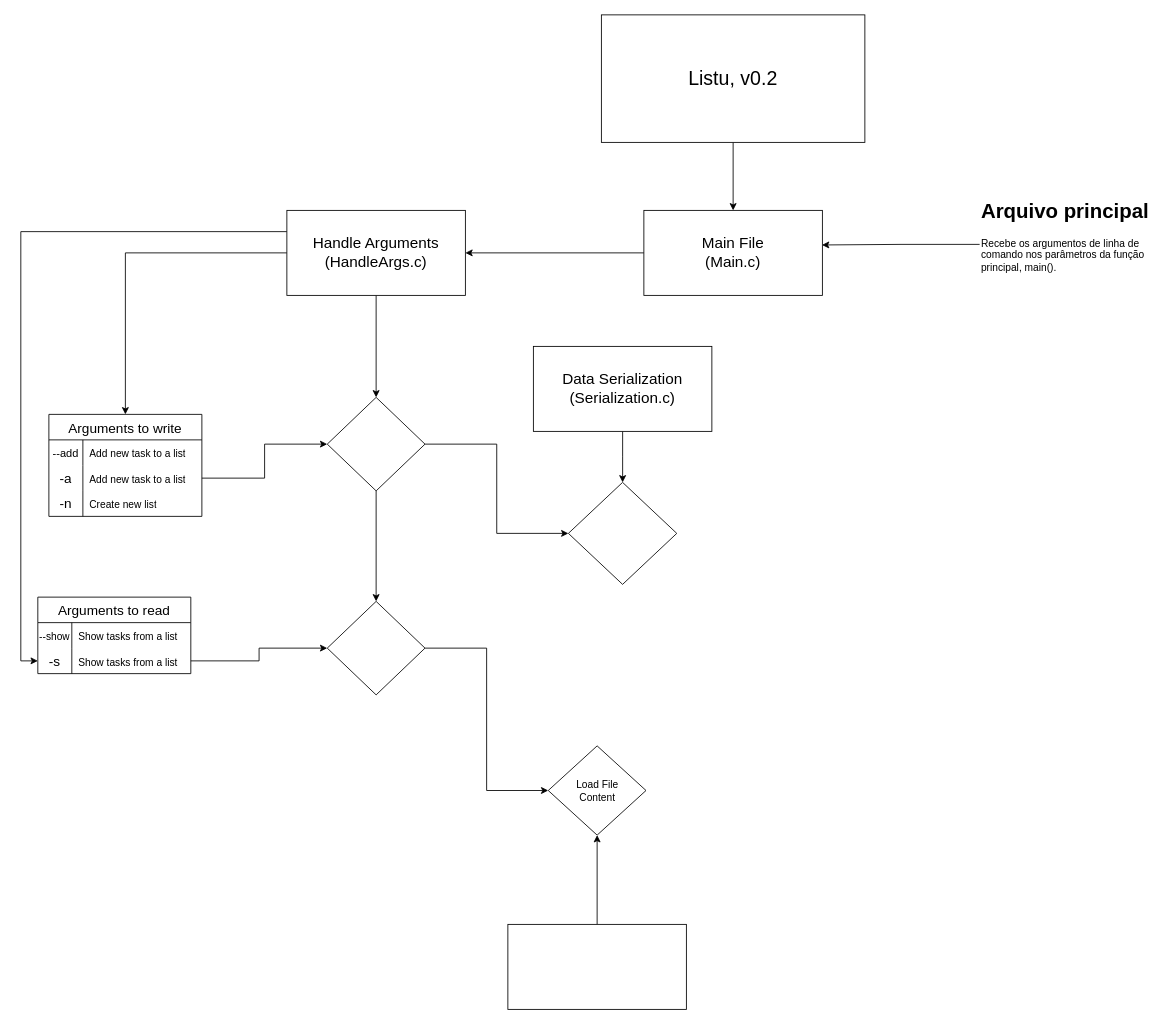
Some shapes in this 1169 by 1024 pixel diagram are drawn without their labels. The centre of each missing label's shape, as x and y in pixels:
Data Deserialization (Serialization.c): the point at 596,966
Read content: the point at 375,648
Serialize Data Structure to File: the point at 622,533
Write content: the point at 375,444
